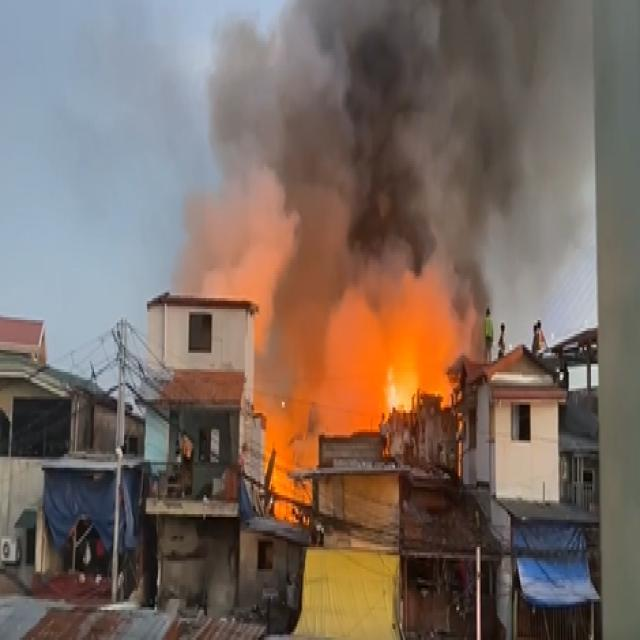Fire: (371, 344, 416, 416), (273, 399, 296, 516)
Smoke: (222, 5, 596, 248), (202, 215, 482, 316), (266, 301, 366, 427)
